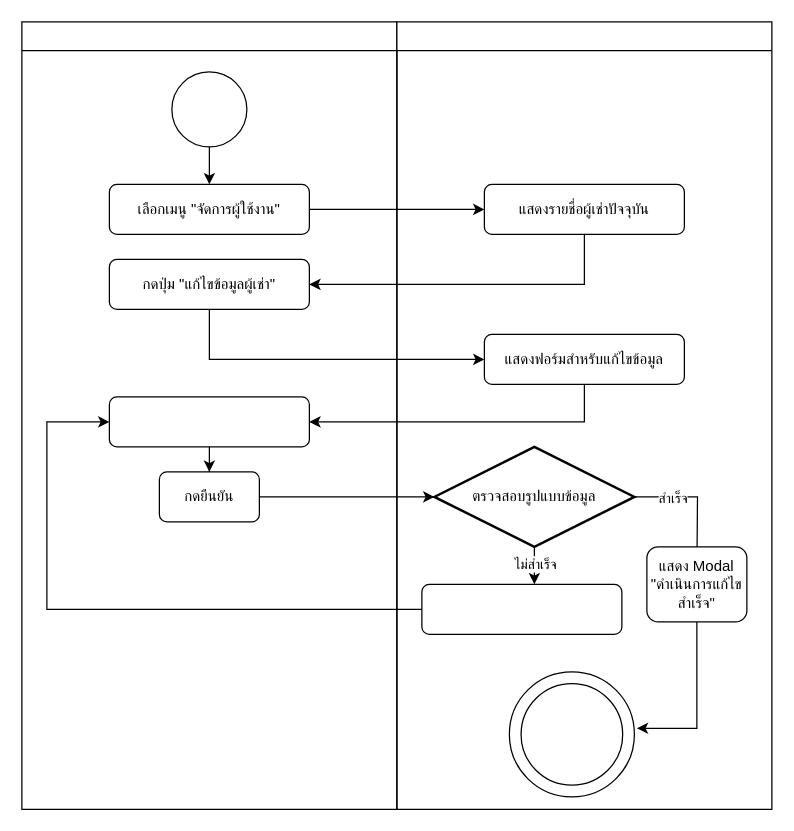
This 794x831 diagram has some shape labels left out. Each missing label, with the box of its shape:
Actor: (21, 21, 397, 809)
System: (396, 21, 772, 809)
ป้อนข้อมูลที่ต้องการแก้ไข: (108, 396, 309, 447)
แสดง Modal "ข้อมูลไม่ถูกต้อง": (421, 583, 622, 634)
